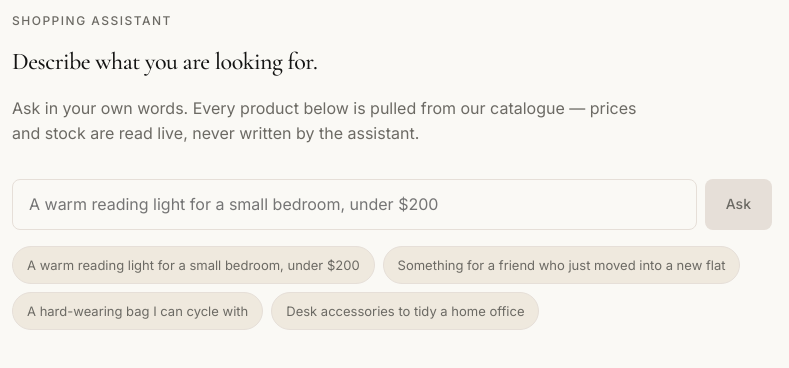
Test case: AssistantPage › offers a way out when nothing matched
Type "a submarine" into the field named "looking for".
click(354, 204); type("a submarine")  # box left=12, top=179, right=697, bottom=230
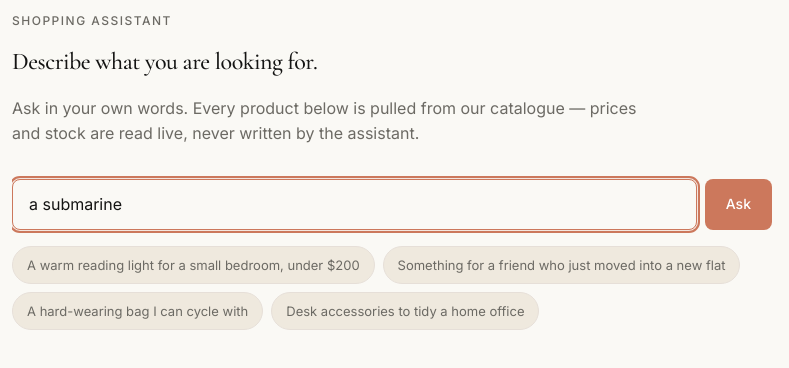
Click the button "Ask".
click(738, 204)  # box left=705, top=179, right=772, bottom=230
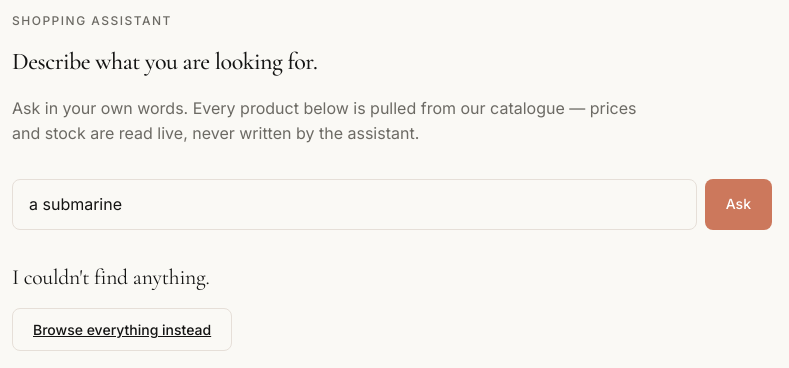
Expected: the text "I couldn't find anything." is shown, left=12, top=264, right=210, bottom=290
Expected: the link "Browse everything instead" is shown, left=12, top=308, right=232, bottom=351
